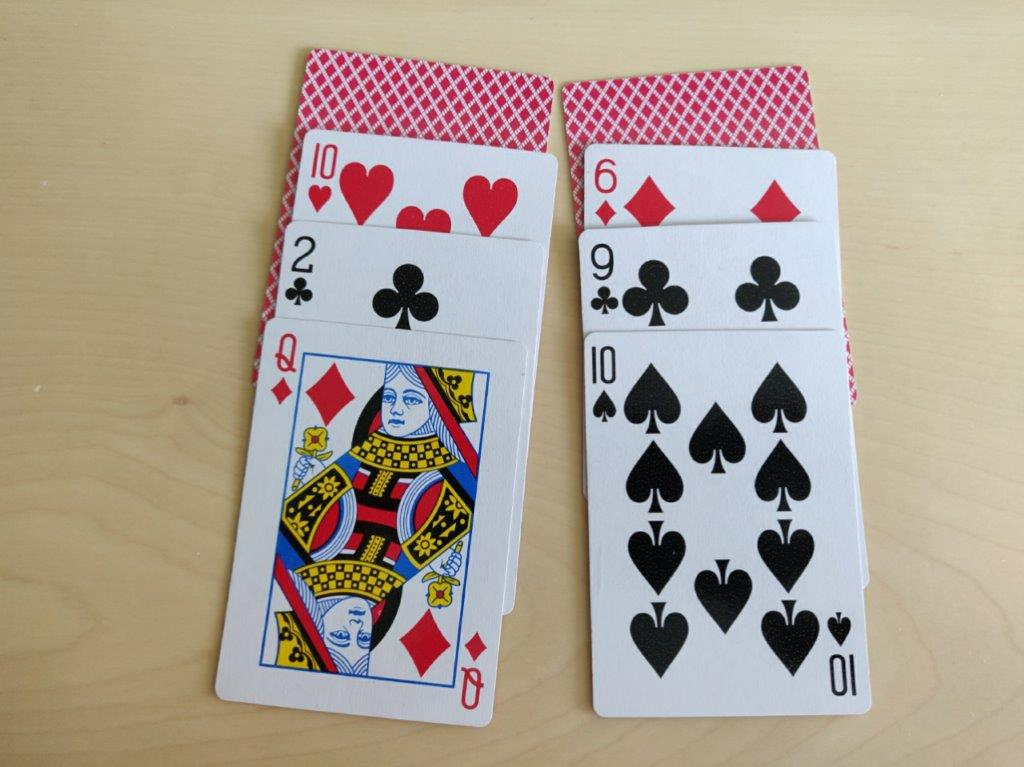10H: (306, 139, 341, 221)
10S: (587, 340, 621, 430)
2C: (282, 227, 316, 317)
6D: (589, 156, 617, 228)
9C: (585, 236, 620, 320)
BACK: (562, 58, 829, 153), (299, 52, 555, 147)
QD: (261, 331, 298, 408)
